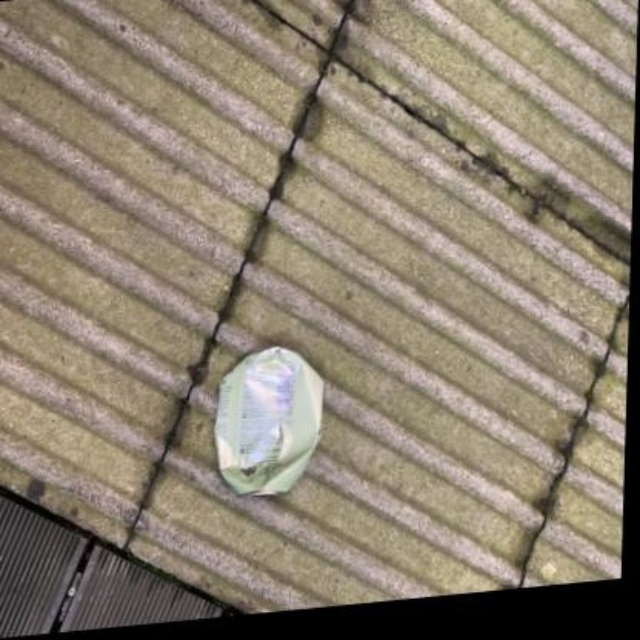trash: (214, 346, 322, 494)
